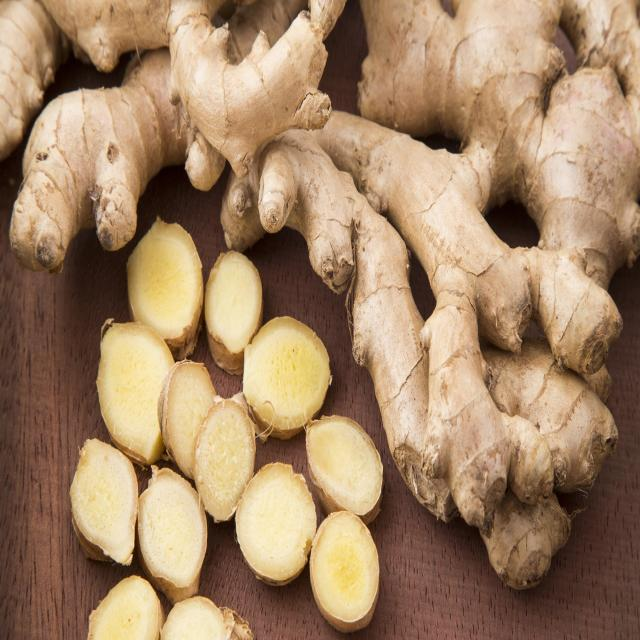Ginger: (380, 0, 637, 584), (170, 0, 386, 248), (0, 0, 189, 267), (80, 311, 183, 466), (114, 206, 208, 374), (238, 421, 329, 590), (126, 455, 217, 611), (59, 430, 138, 603), (201, 353, 272, 529), (305, 495, 385, 640), (246, 309, 337, 434), (309, 379, 392, 514), (200, 243, 264, 379)
